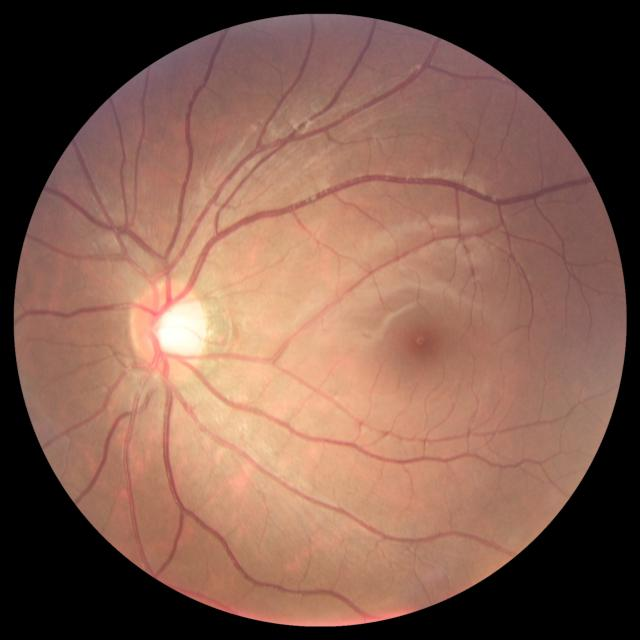OC: (155, 302, 198, 355)
OD: (130, 280, 205, 377)
